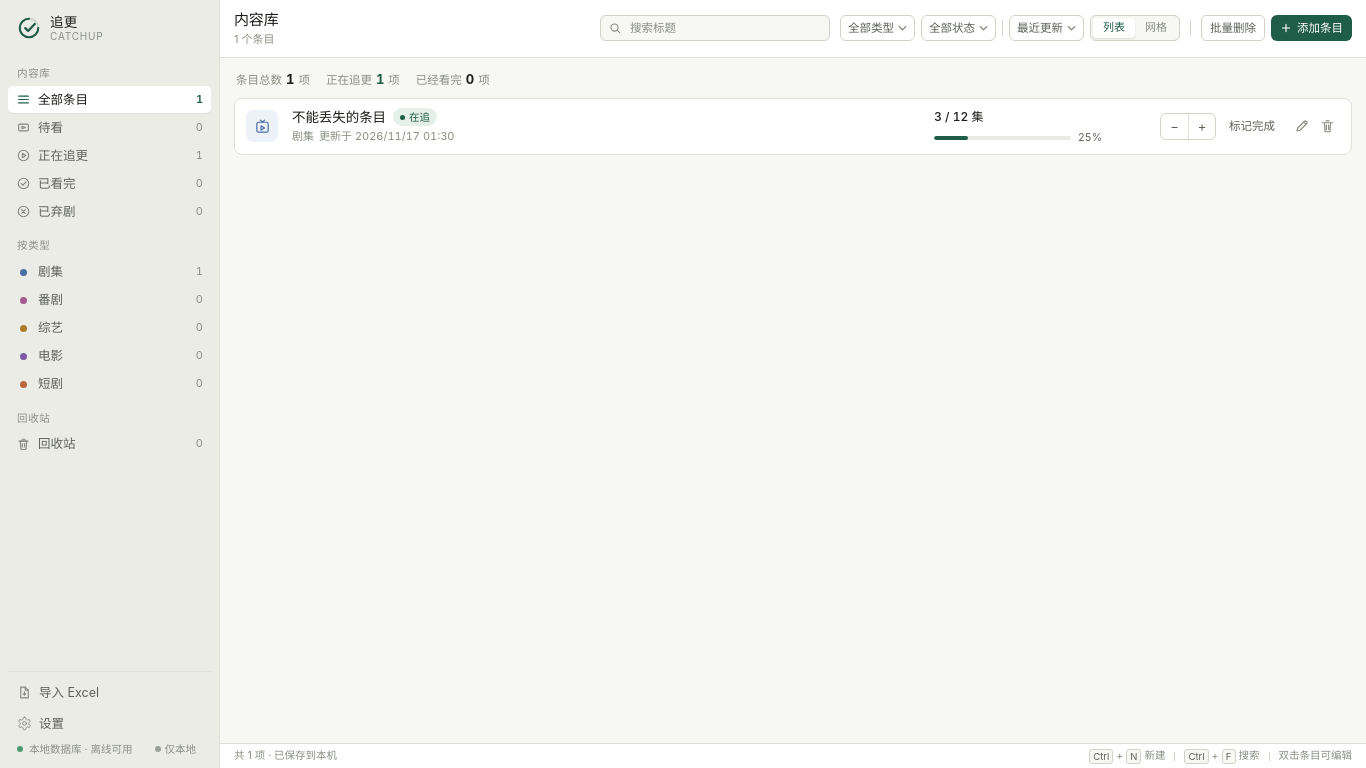
Scenario: 条目管理 › 删除失败时保留对话框和条目，并允许取消
Expected: the element "不能丢失的条目" is shown, [234,98,1352,155]
What coordinates should you click on to do the following:
click the button named "删除《不能丢失的条目》"
I would click on:
 (1327, 126)
Its box is [1314,113,1340,139].
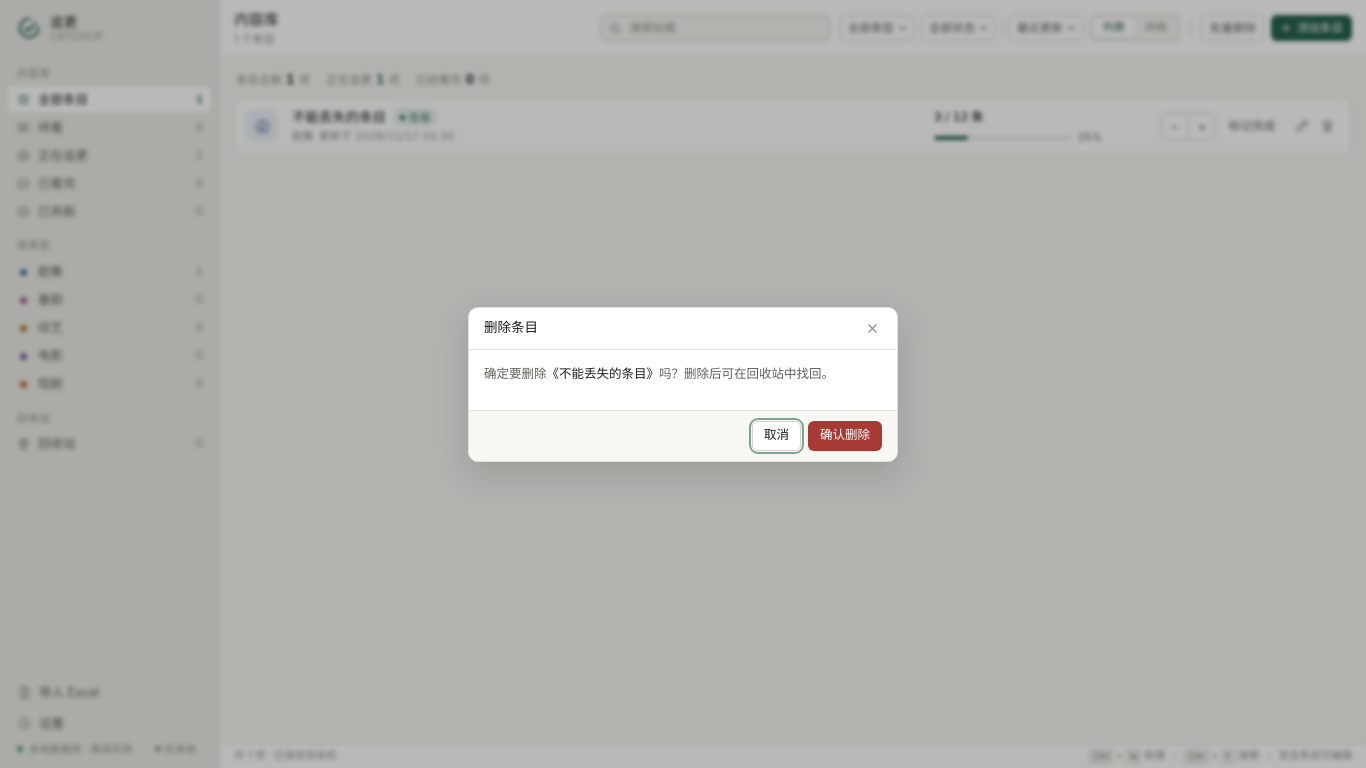
What coordinates should you click on to do the following:
click the button "确认删除"
I would click on:
 (845, 436)
Its box is [808,420,882,450].
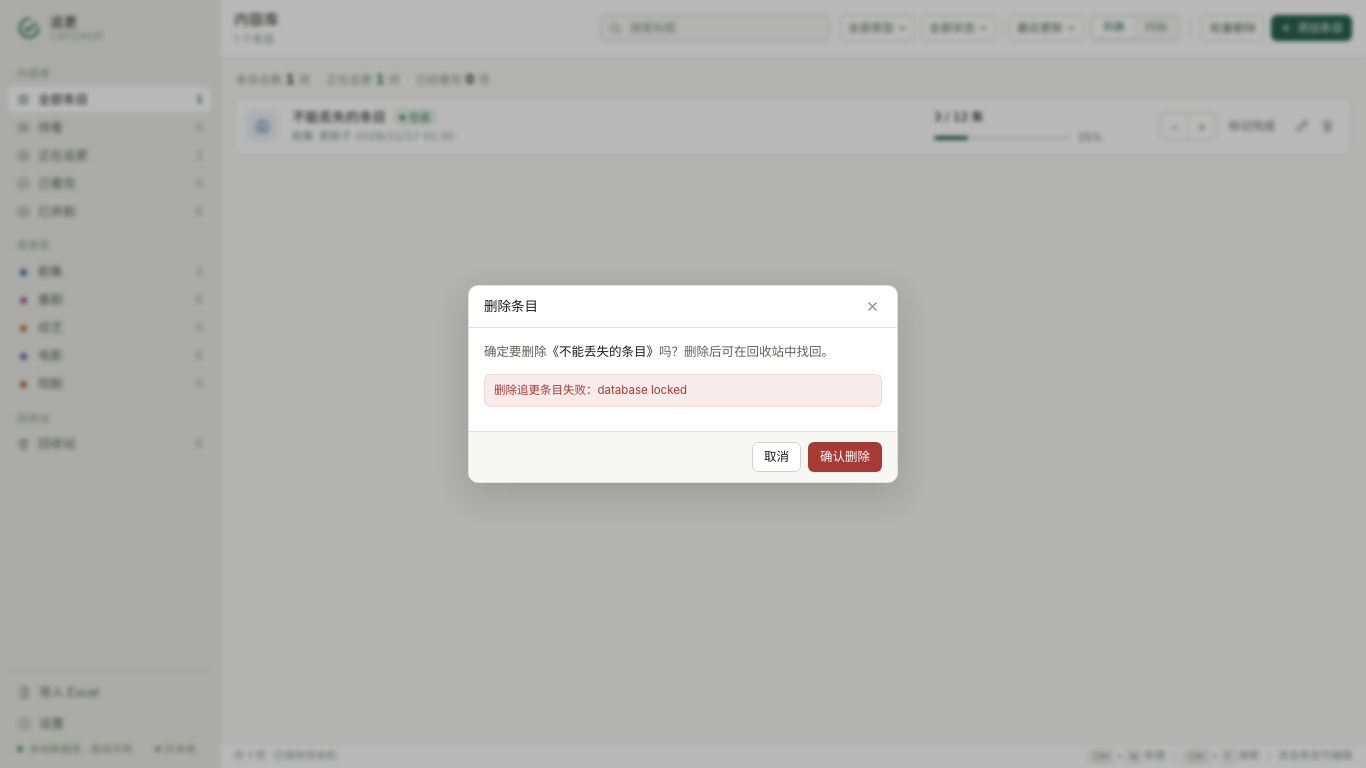
Expected: the element "不能丢失的条目" is shown, [234,98,1352,155]
Now the message reads "删除追更条目失败：database locked", box [494,383,687,397]
What coordinates should you click on to do the following:
click the button "取消"
I would click on:
 (776, 457)
Its box is [752,442,801,472].
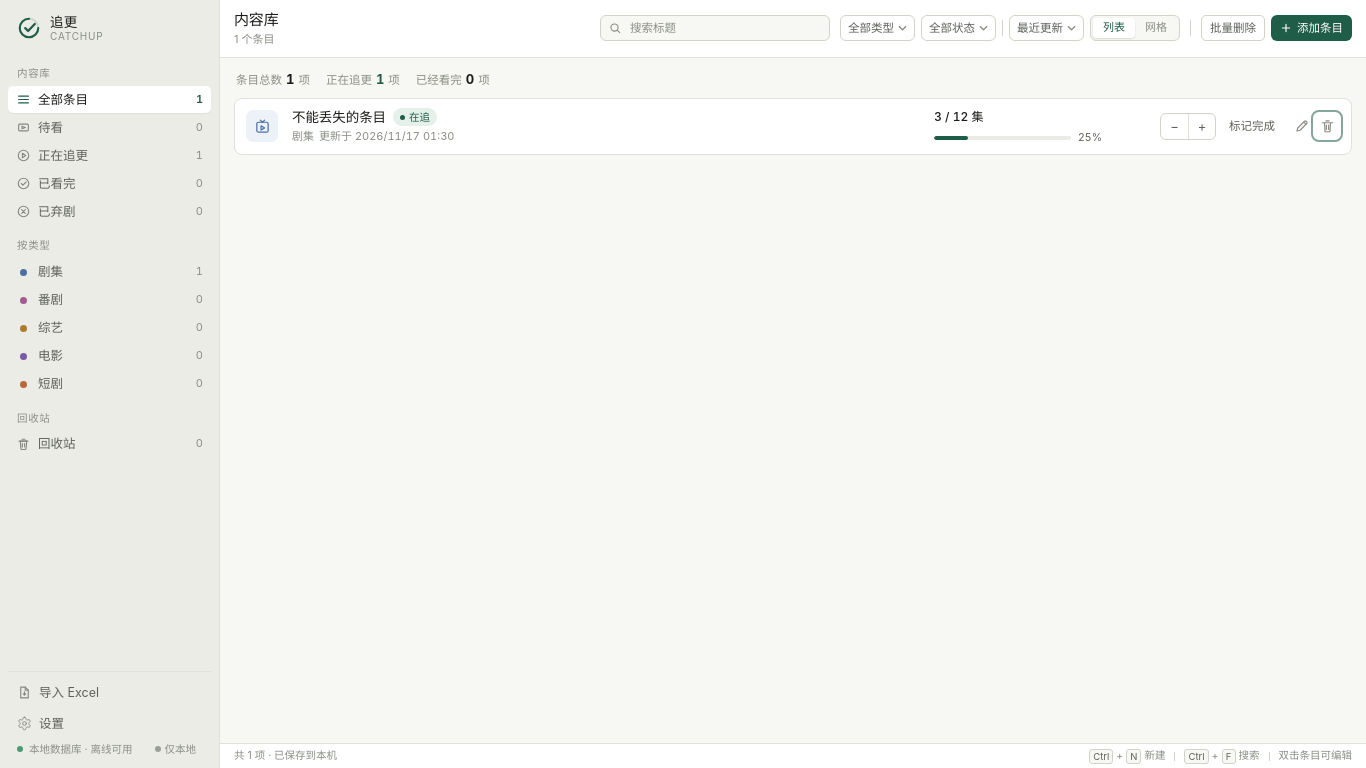
Expected: the element "不能丢失的条目" is shown, [234,98,1352,155]
Now the dialog is gone
